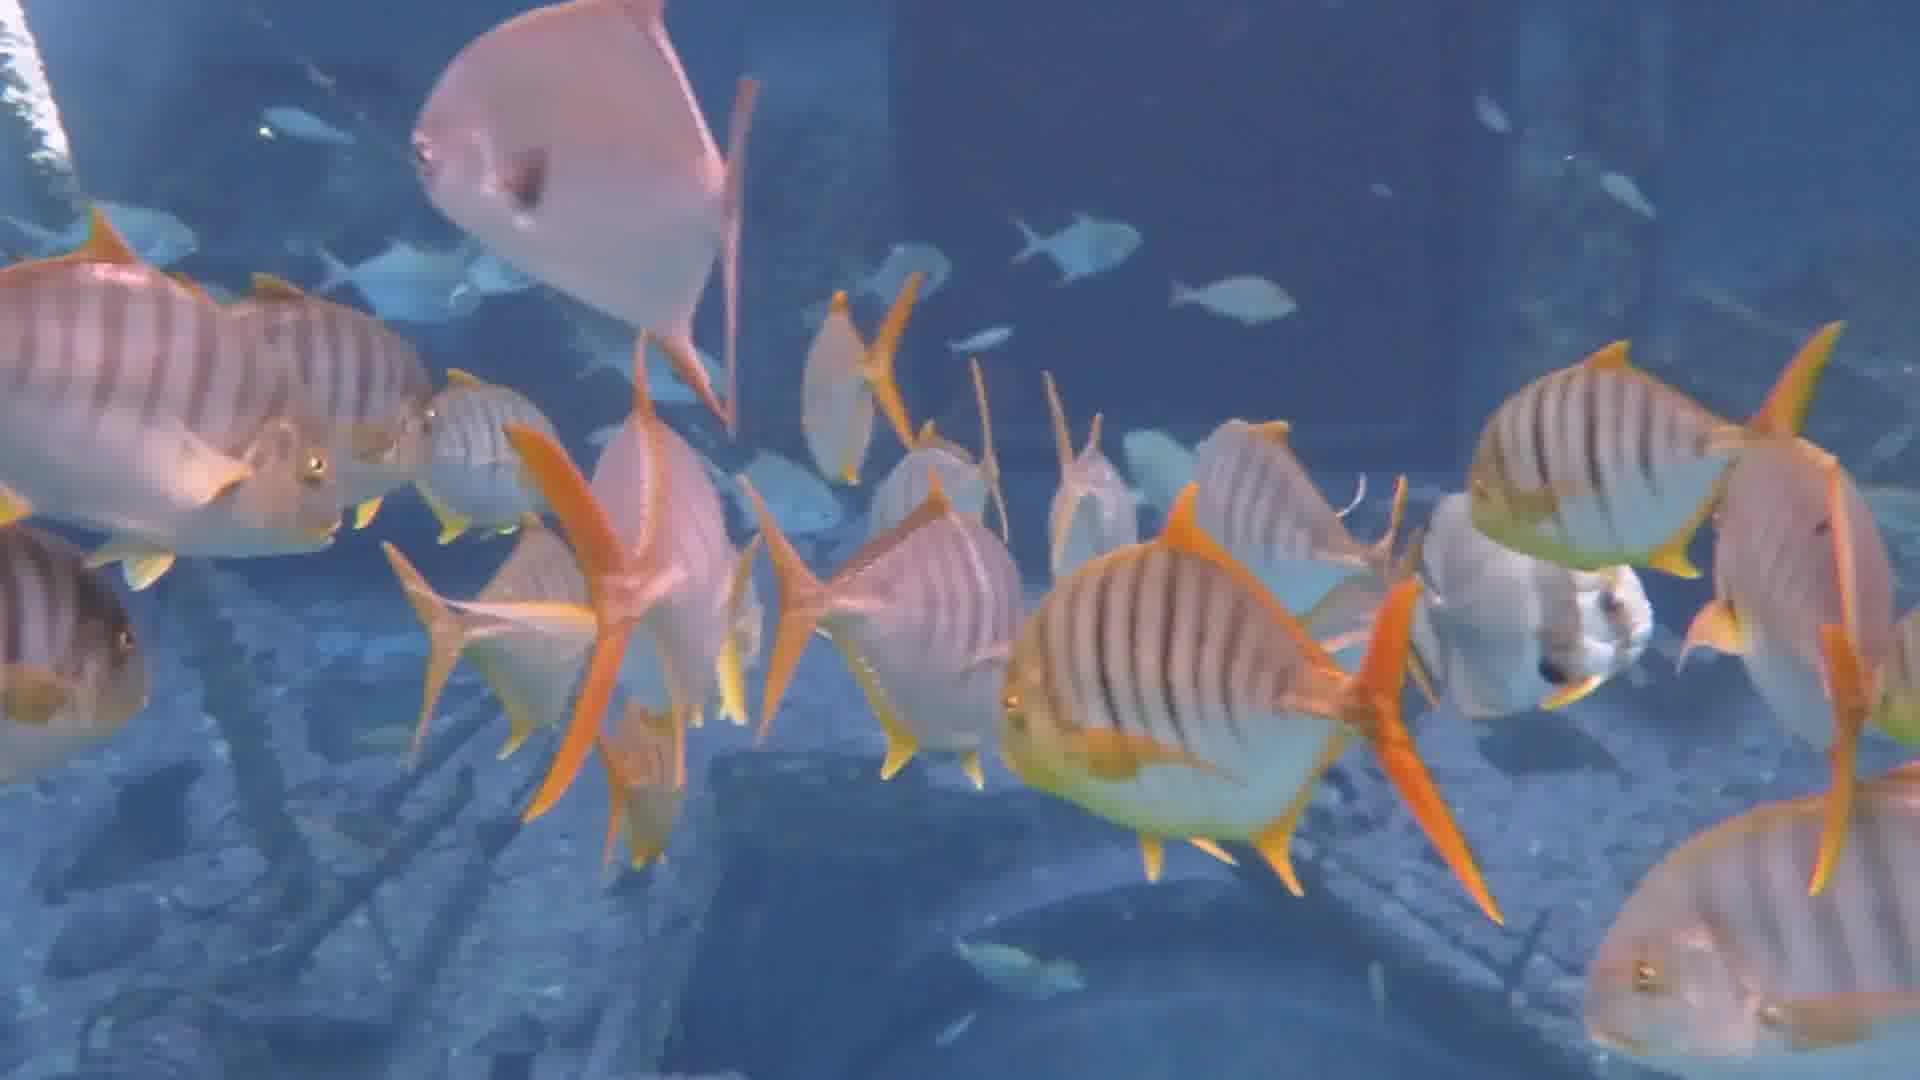Gnathanodon speciosus: (992, 551, 1453, 852), (3, 237, 359, 616), (711, 508, 1036, 790), (1555, 807, 1920, 1052), (1462, 361, 1793, 550)
